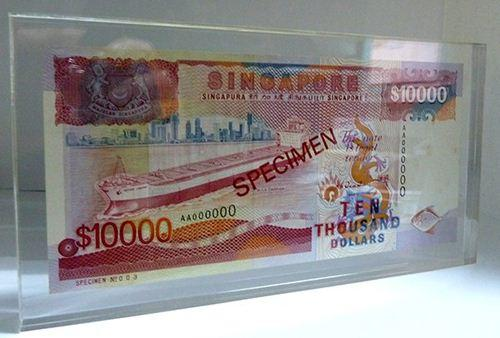10000SingaporeDollar: (52, 46, 463, 264)
